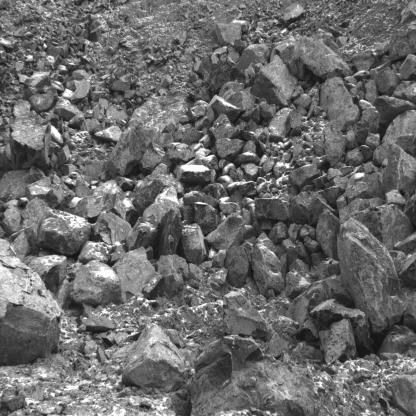stone: (0, 226, 65, 371), (338, 218, 409, 331), (124, 321, 187, 388), (276, 35, 349, 77), (106, 124, 158, 176), (223, 291, 276, 342), (35, 209, 92, 256), (71, 261, 123, 309), (249, 55, 298, 103), (112, 246, 156, 299), (320, 75, 359, 132), (8, 111, 45, 167), (316, 317, 356, 366), (383, 141, 416, 193), (252, 244, 284, 296), (204, 214, 246, 251), (373, 95, 416, 126), (180, 223, 210, 265), (92, 212, 132, 243), (73, 194, 116, 222), (124, 216, 158, 250), (316, 210, 339, 260), (226, 245, 252, 288), (26, 177, 60, 209), (378, 326, 416, 353), (392, 374, 416, 416), (192, 201, 220, 236), (79, 240, 121, 263), (286, 270, 318, 299), (288, 164, 321, 191), (254, 198, 290, 222), (324, 127, 345, 166), (210, 113, 240, 140), (158, 254, 189, 280), (269, 107, 293, 140), (306, 198, 335, 225), (375, 68, 400, 96), (177, 164, 212, 184), (215, 137, 243, 161), (226, 90, 256, 112), (282, 1, 306, 28), (54, 99, 84, 120), (266, 332, 290, 358), (215, 24, 242, 47), (169, 143, 196, 165), (316, 257, 341, 280), (295, 319, 319, 342), (163, 274, 184, 298), (139, 147, 160, 171), (268, 221, 288, 245), (71, 78, 90, 103), (95, 125, 122, 142), (400, 54, 416, 81), (345, 146, 364, 166), (182, 128, 203, 146), (385, 190, 407, 207), (286, 110, 301, 134), (75, 180, 93, 198), (299, 224, 317, 241), (289, 259, 310, 273), (365, 132, 380, 149), (288, 224, 301, 240), (312, 252, 324, 266)
